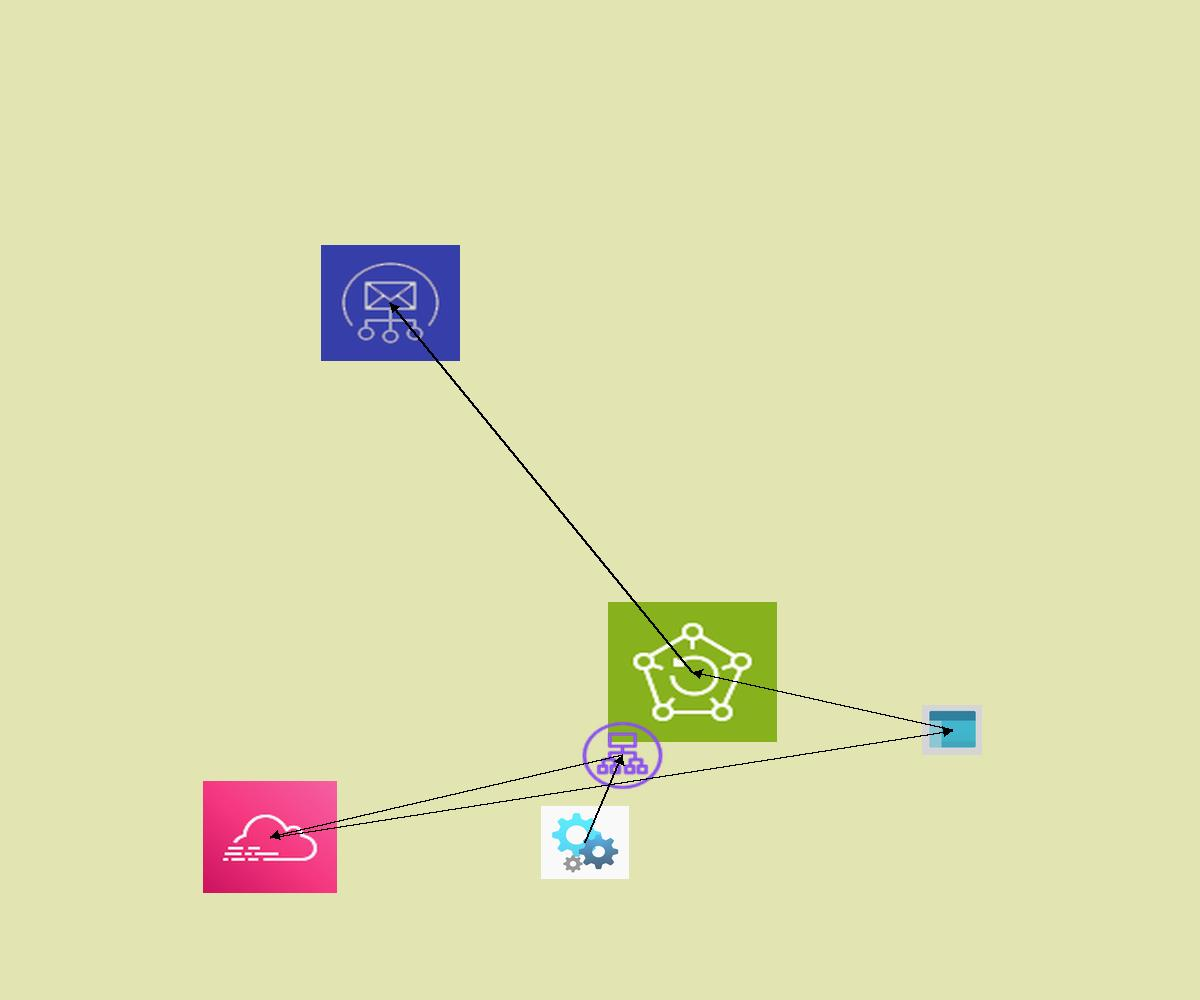AWS-Backup: (608, 602, 777, 742)
AWS-CloudTrail: (203, 781, 337, 893)
AWS-Res_Elastic-Load-Balancing_Application-Load-Balancer: (579, 719, 666, 792)
AWS-Simple-Email-Service: (321, 245, 460, 361)
Azure_api: (541, 806, 629, 879)
Azure_management-portal: (922, 705, 982, 755)
